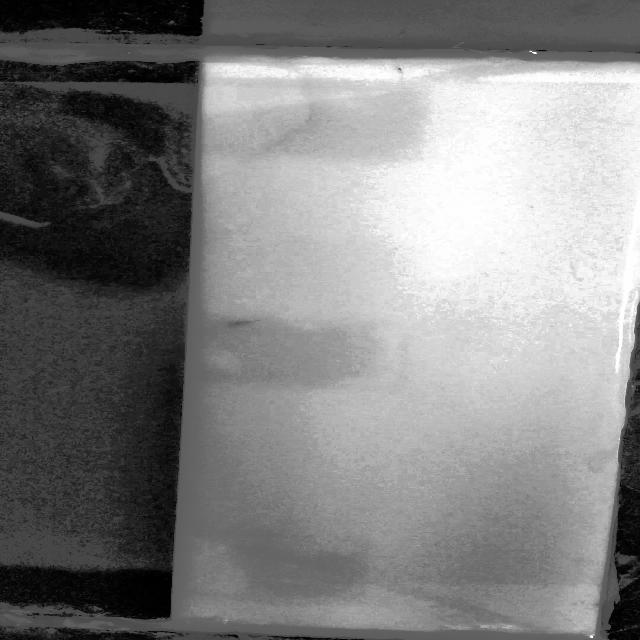shrimp: (211, 312, 258, 332)
